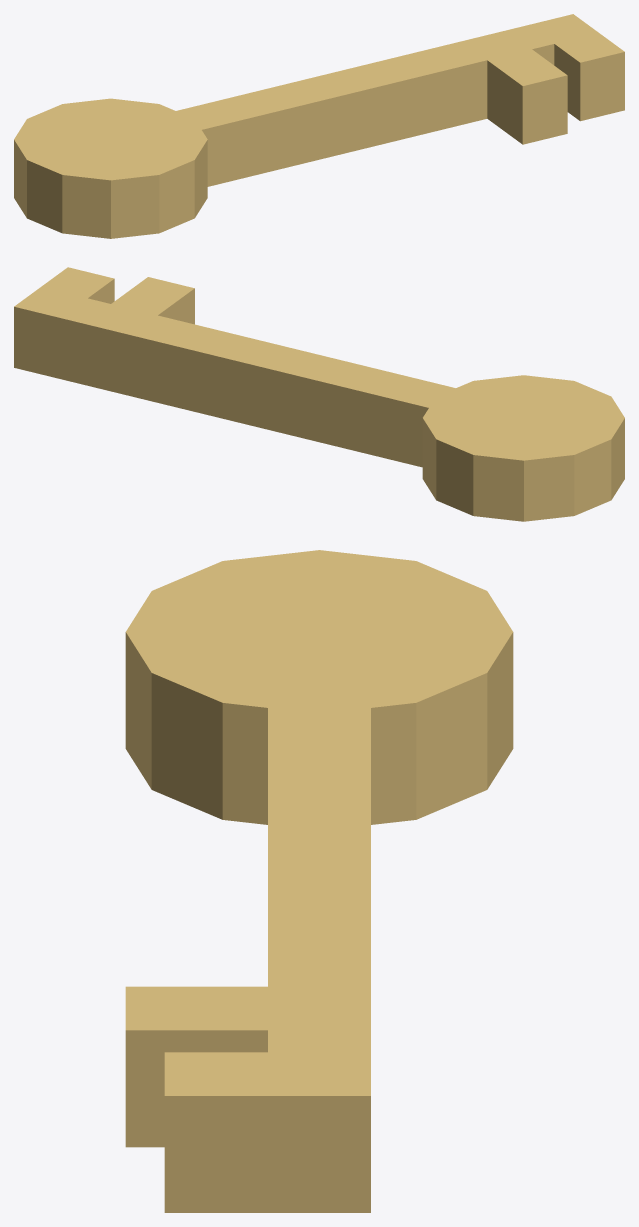
File: INT_Llave.fbx
3 renders of one model, top to bottom at view 1: azimuth 30°, elevation 25°; view 2: azimuth 150°, elevation 25°; view 3: azimuth 270°, elevation 25°, orthographic. The views are drawn at different scales.
Parts seen in each view (by area): view 1: INT_Llave; view 2: INT_Llave; view 3: INT_Llave.
Boxes of the visible parts, x1=… form: INT_Llave: x1=14, y1=14, x2=624, y2=238; INT_Llave: x1=14, y1=267, x2=624, y2=521; INT_Llave: x1=125, y1=550, x2=513, y2=1212.
Bounding box in the file's own units: 0.1 × 0.01 × 0.03.
